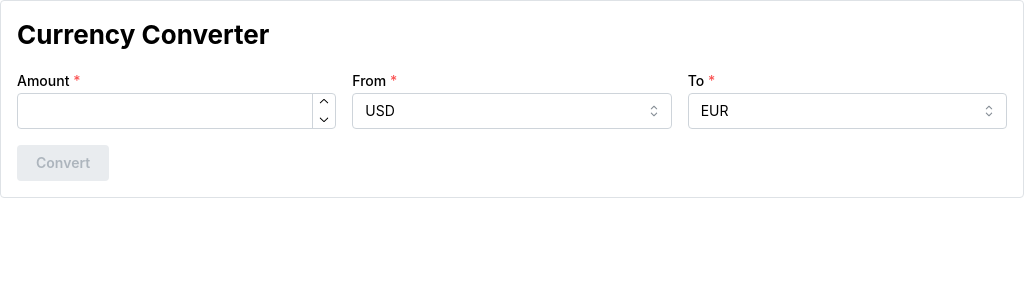
Test case: CurrencyConverter › performs conversion from USD to EUR
Type "10" into the field labelled "Amount *" at (177, 111), box top-left (17, 93), bottom-right (336, 129)
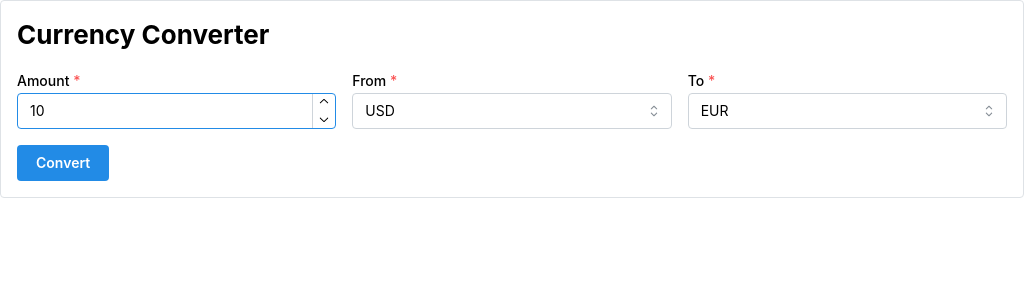
Click the button "Convert" at (63, 163), box top-left (17, 145), bottom-right (109, 181)
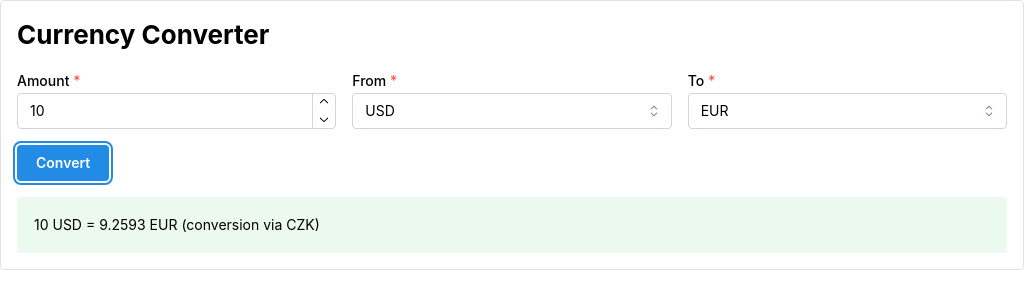
Now the text "10 USD = 9.2593 EUR" is shown, box top-left (34, 216), bottom-right (320, 233)
